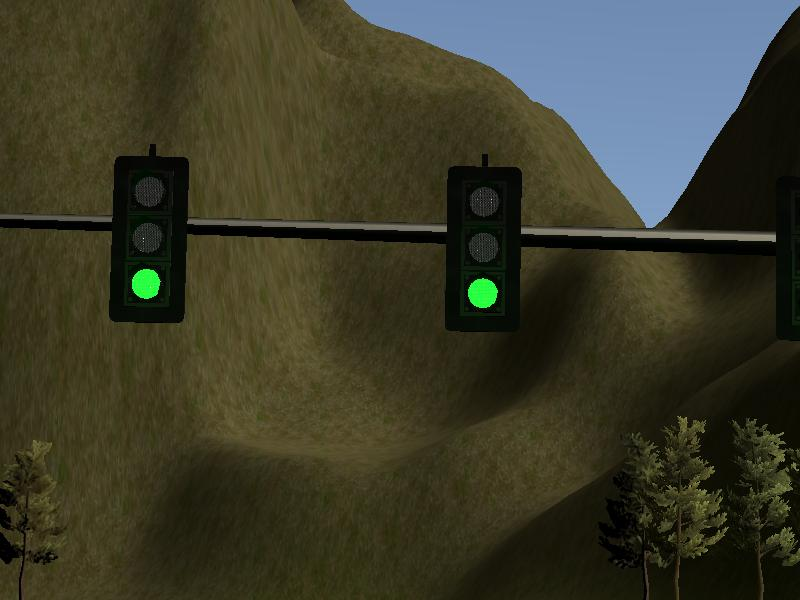green: (445, 168, 522, 331), (112, 157, 189, 320)
